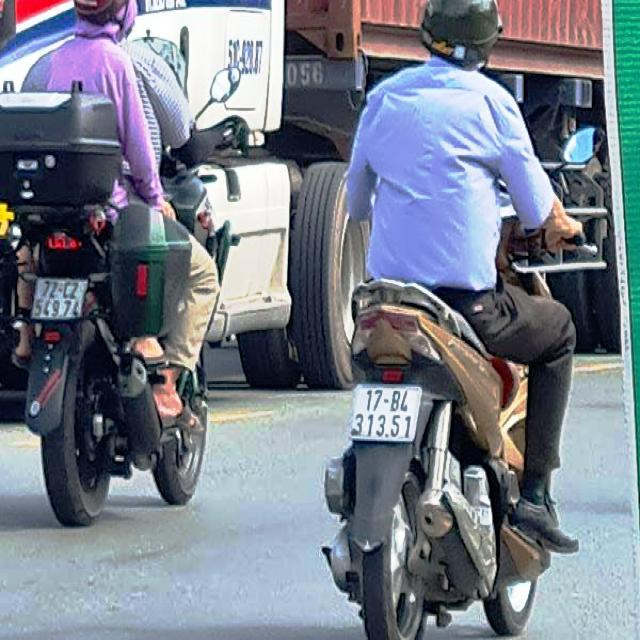license_plate: (348, 386, 426, 445), (31, 277, 89, 321)
